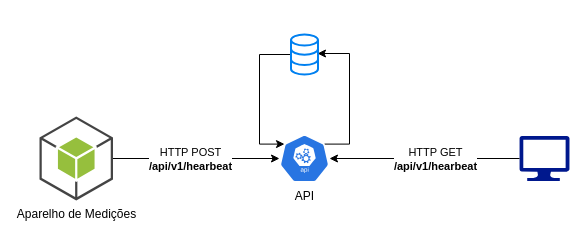
Some shapes in this 587 by 238 pixel diagram are drawn without their labels. The shapes that lost their labels are listed below. From the top down, each one's centre as x and y in pixels, then its label:
point 304,54: Banco de Dados
point 544,158: Cliente
